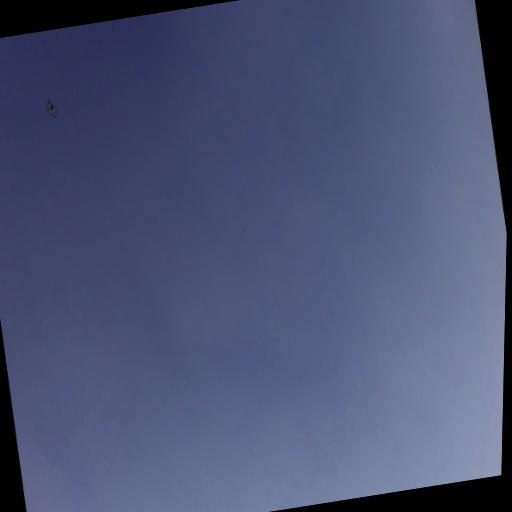drones: (44, 96, 59, 120)
